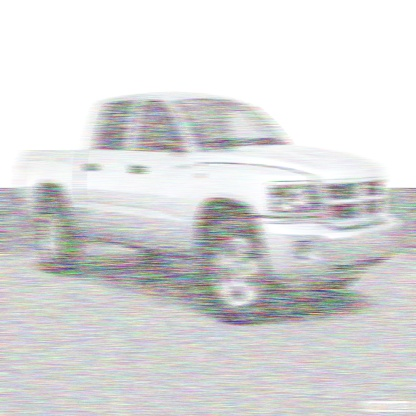Vehicle: (16, 90, 402, 329)
